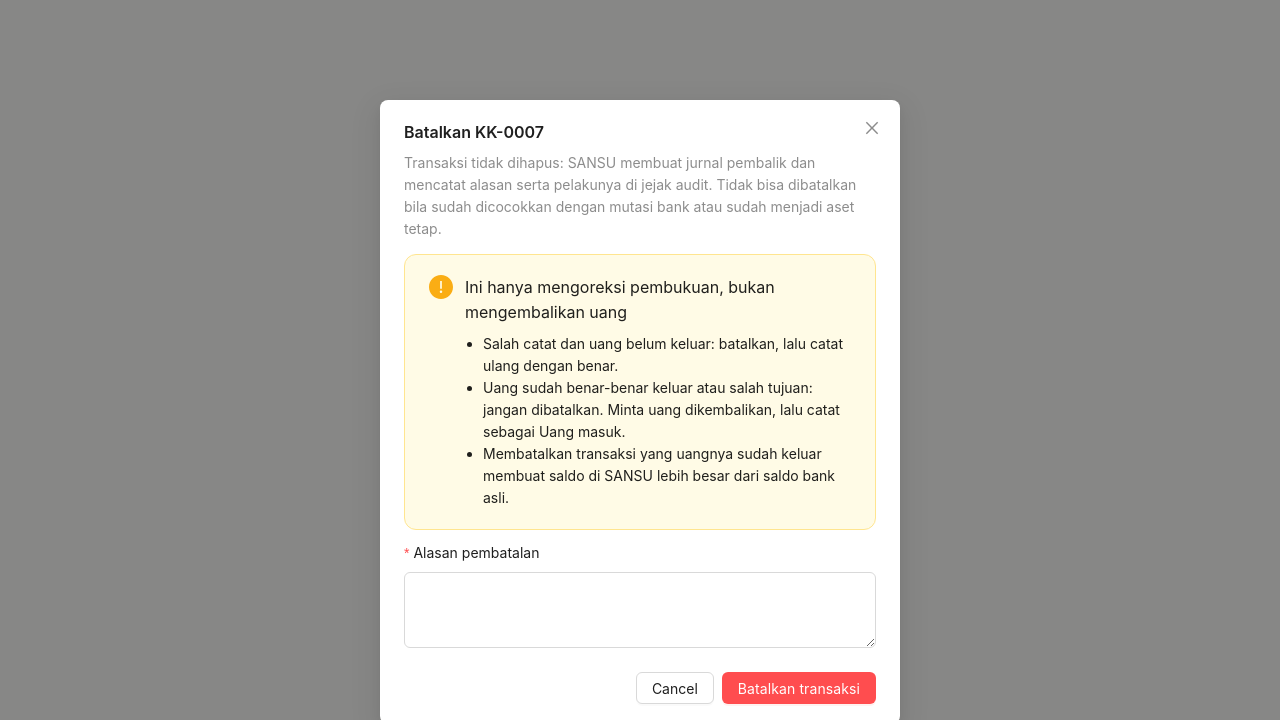
Test case: Batalkan transaksi kas › server menolak: pesan galat tampil dan modal tetap terbuka
Step 1. Type "Salah catat nominal" into the text box → (640, 610), box [404,572,876,648]
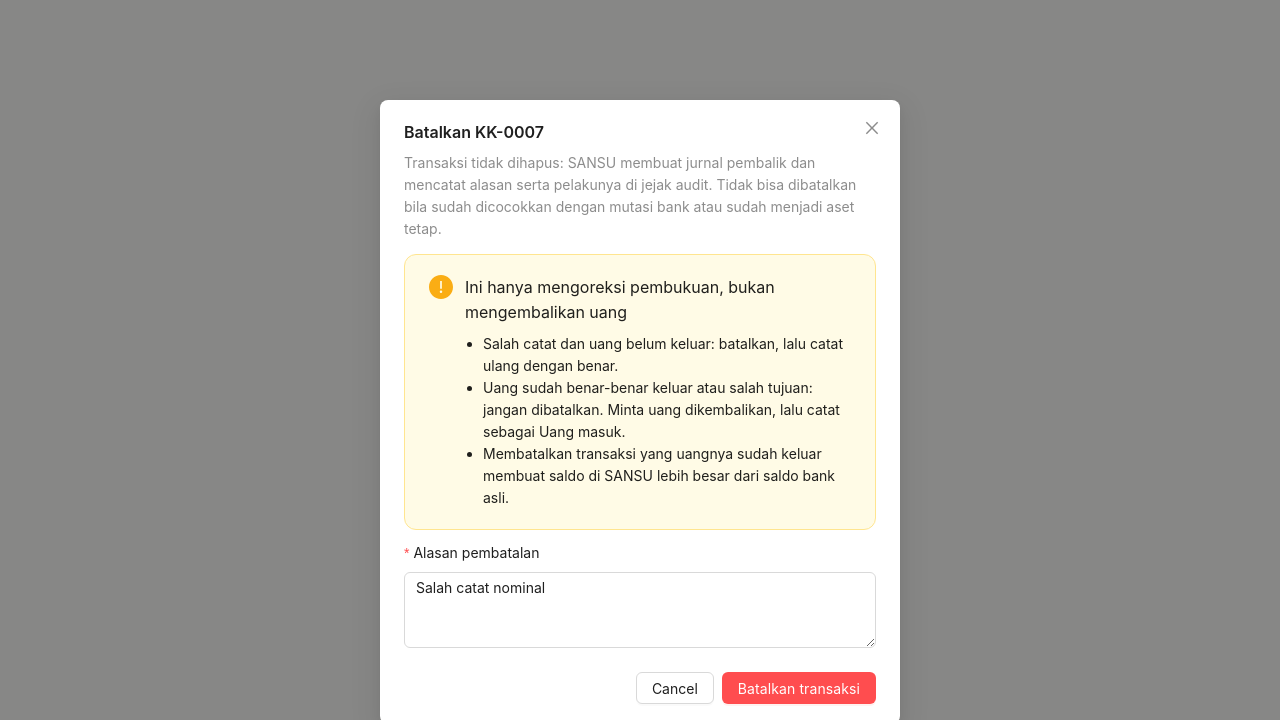
Step 2. Click the button "Batalkan transaksi" → (799, 688), box [722,672,876,704]
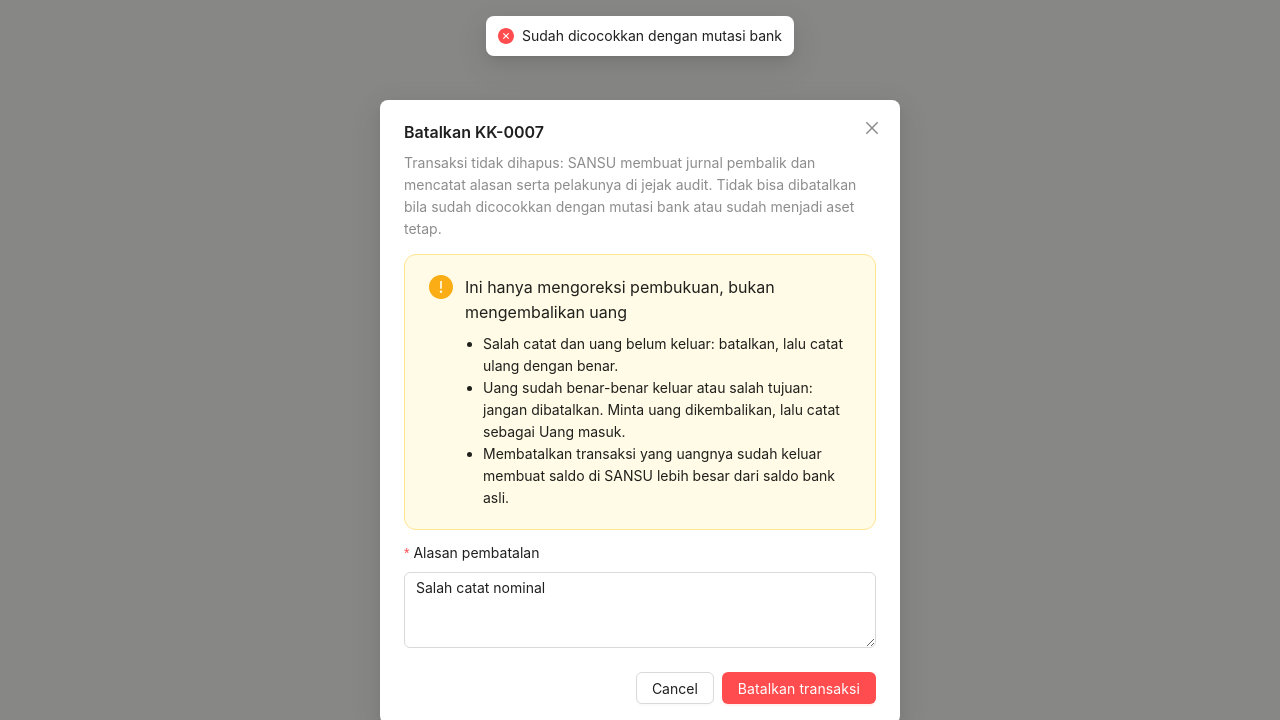
Result: the text "Sudah dicocokkan dengan mutasi bank" is shown at [522,25,782,47]
